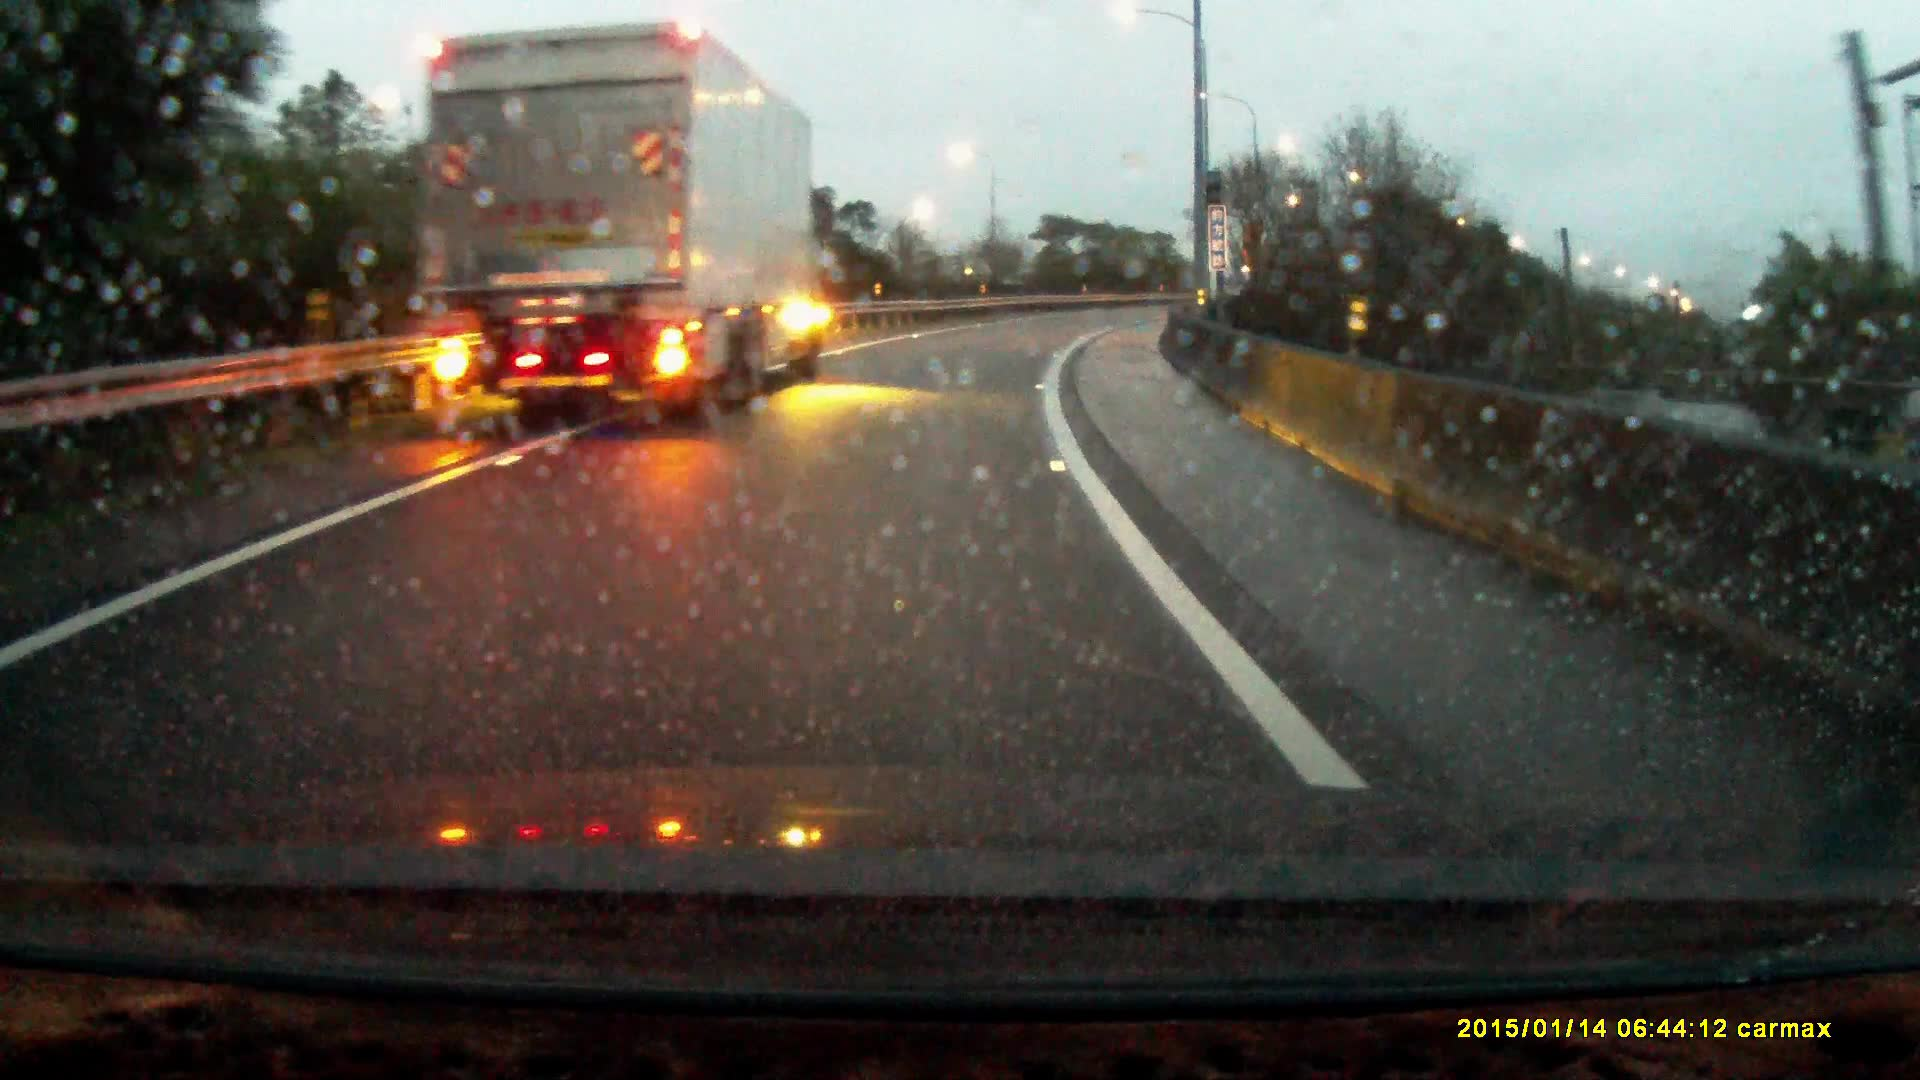vehicle: (414, 17, 829, 409)
